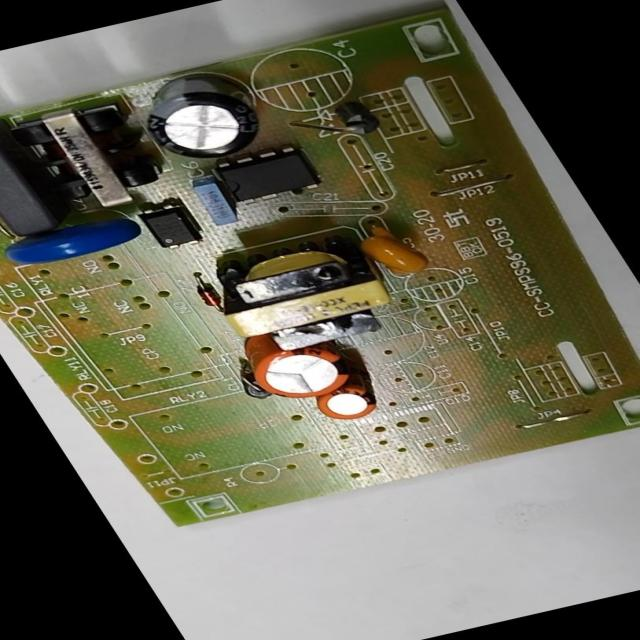Cap1: (240, 338, 358, 403)
Cap2: (310, 382, 384, 424)
Cap3: (120, 64, 273, 166)
MOSFET: (209, 146, 321, 207)
Mov: (1, 219, 145, 268)
Transformer: (195, 239, 398, 357), (5, 99, 172, 215)
